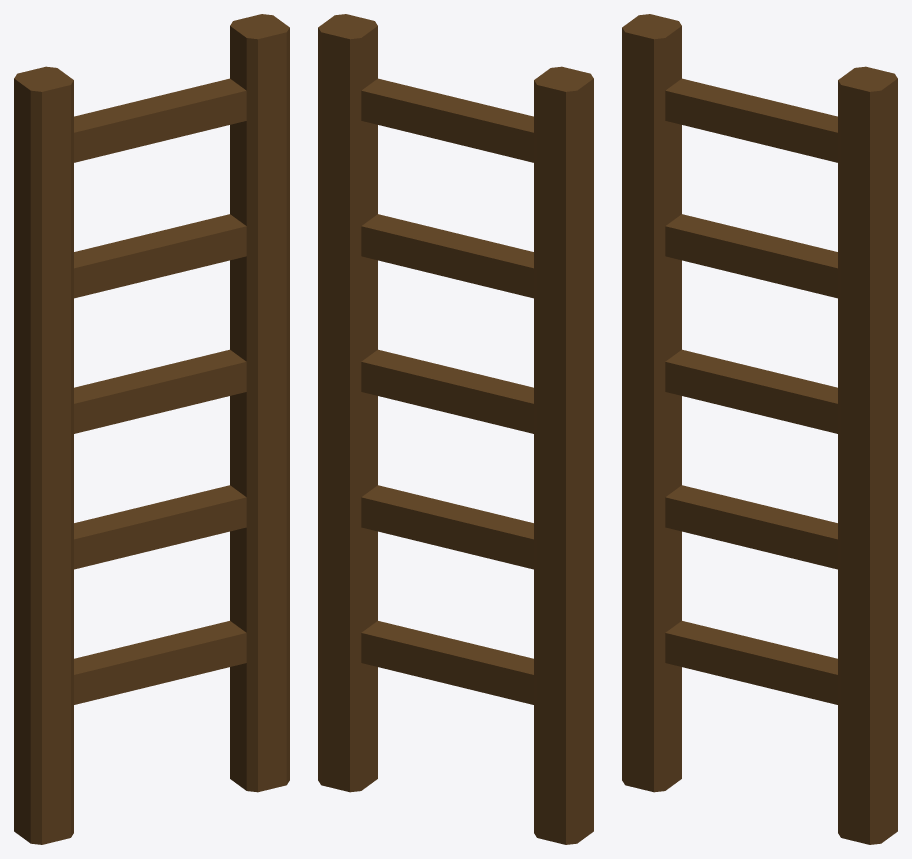
File: Ladder2.obj
3 renders of one model, left to right at view 1: azimuth 30°, elevation 25°; view 2: azimuth 150°, elevation 25°; view 3: azimuth 330°, elevation 25°, orthographic.
Size of the model in its own units: 0.36 by 1 by 0.06.
